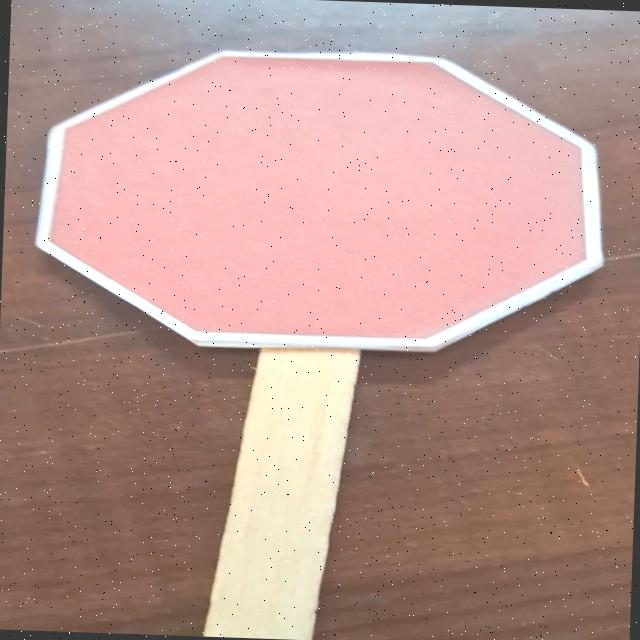Stop: (22, 35, 620, 358)
